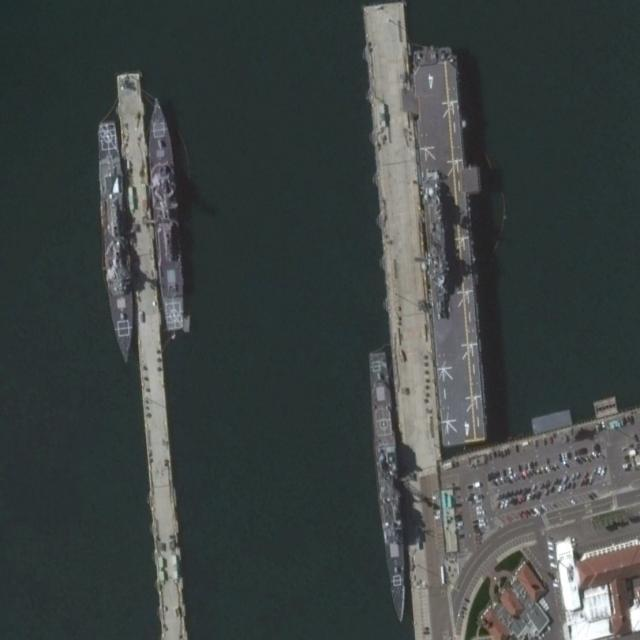Cruiser: (367, 349, 409, 626)
Destroyer: (92, 118, 139, 368), (144, 93, 188, 332)
Landing: (400, 38, 499, 450)
